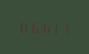one: (48, 20, 57, 34)
seven: (58, 20, 67, 34)
six: (38, 19, 47, 34), (28, 19, 37, 33)
zero: (18, 19, 27, 33)
